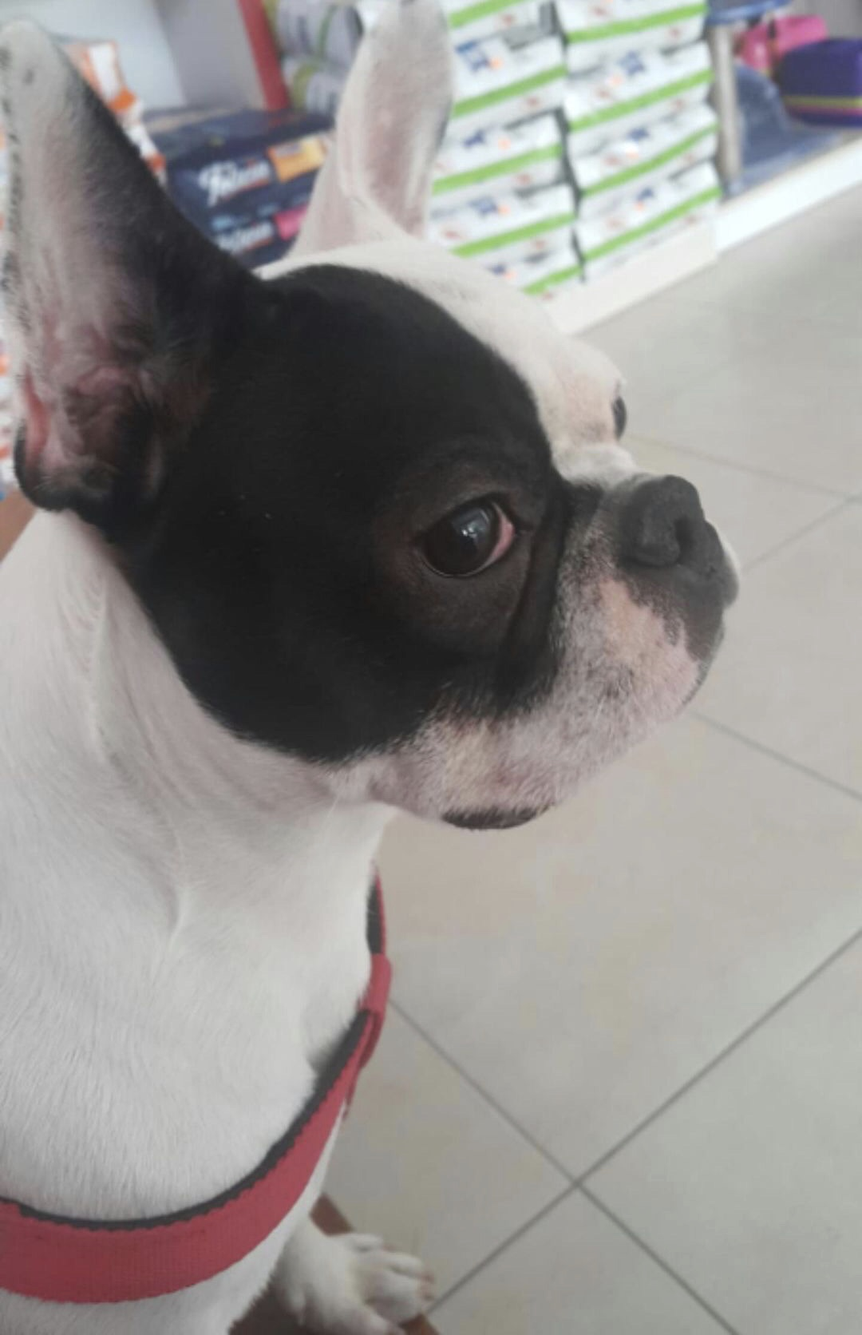dog: (0, 6, 753, 1335)
